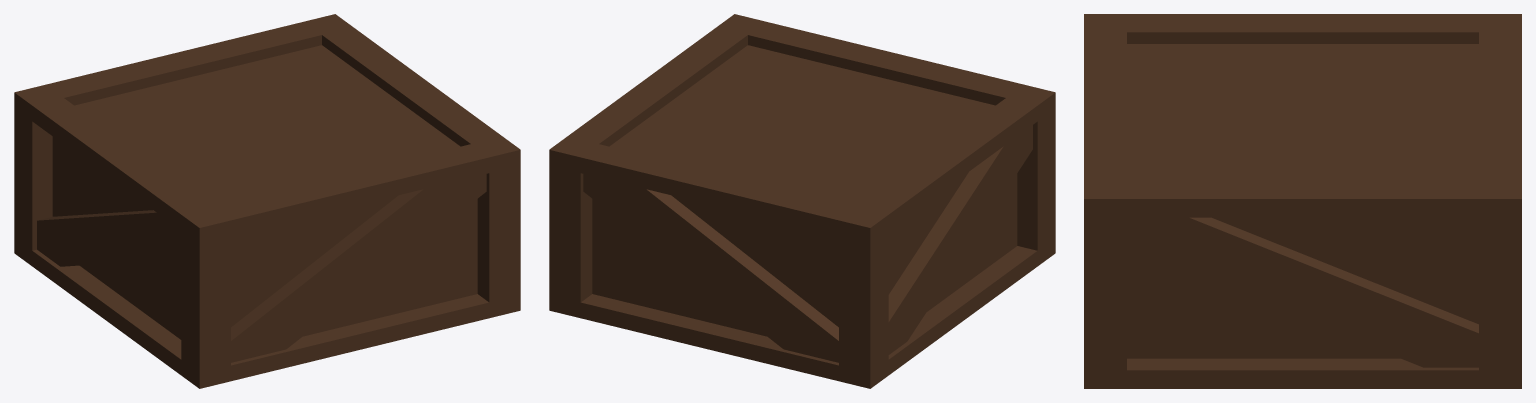
Rendered from crate_2.obj.
The picture shows the model from 3 angles, left to right: view 1: azimuth 30°, elevation 25°; view 2: azimuth 150°, elevation 25°; view 3: azimuth 270°, elevation 25°; orthographic projection. The views are drawn at different scales.
Parts seen in each view (by area): view 1: crate_2_Cube.036; view 2: crate_2_Cube.036; view 3: crate_2_Cube.036.
Boxes of the visible parts, box(x1,y1,x2,y2) form: crate_2_Cube.036: box(14, 14, 520, 388); crate_2_Cube.036: box(549, 14, 1055, 388); crate_2_Cube.036: box(1084, 14, 1521, 388).
Size of the model in its own units: 0.7168 by 0.3431 by 0.7168.
